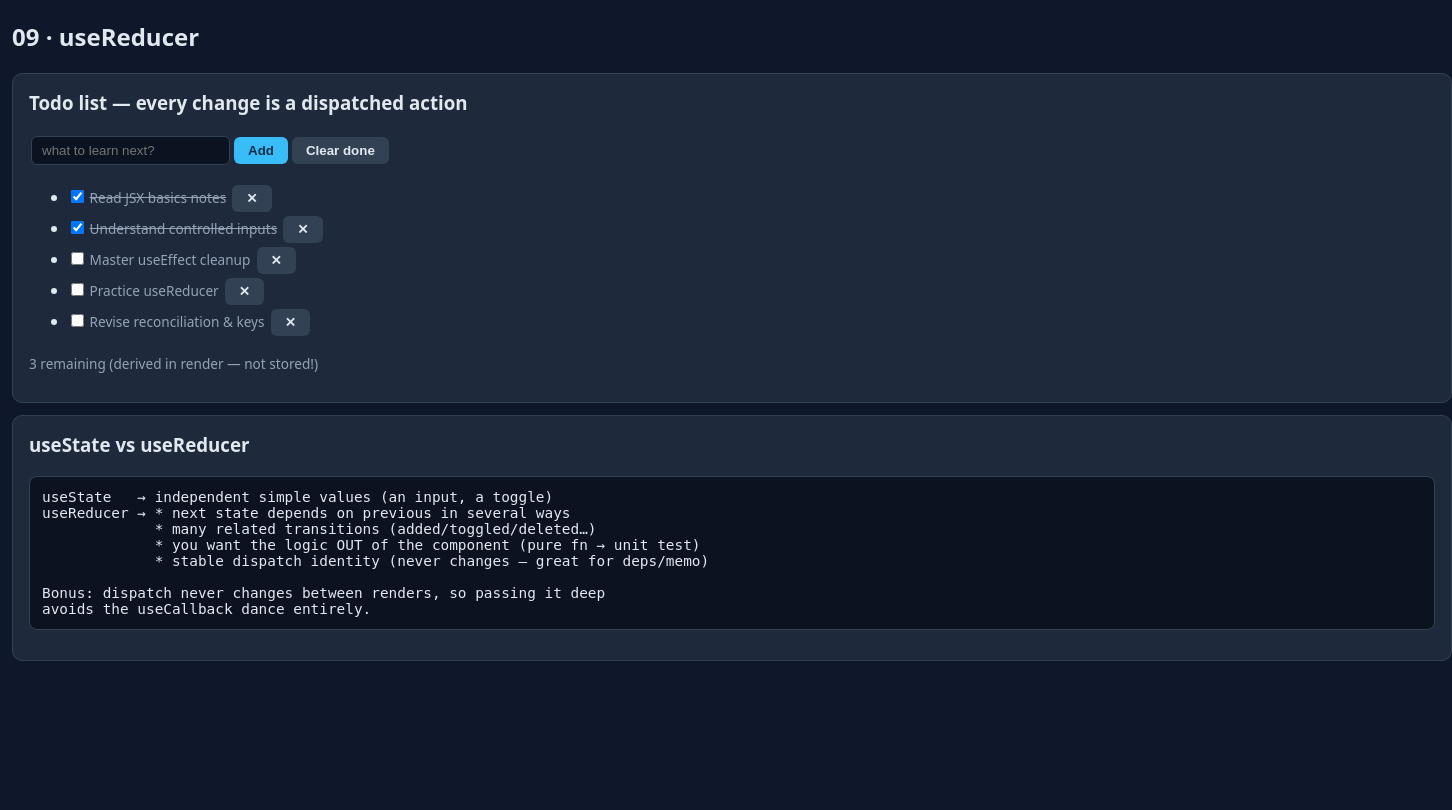
Test: ReducerDemo todo list (concept 09) › adds a todo through the form
In the field with placeholder "what to learn next?": (130, 150) 31,136 -> 230,164, type "Learn testing"
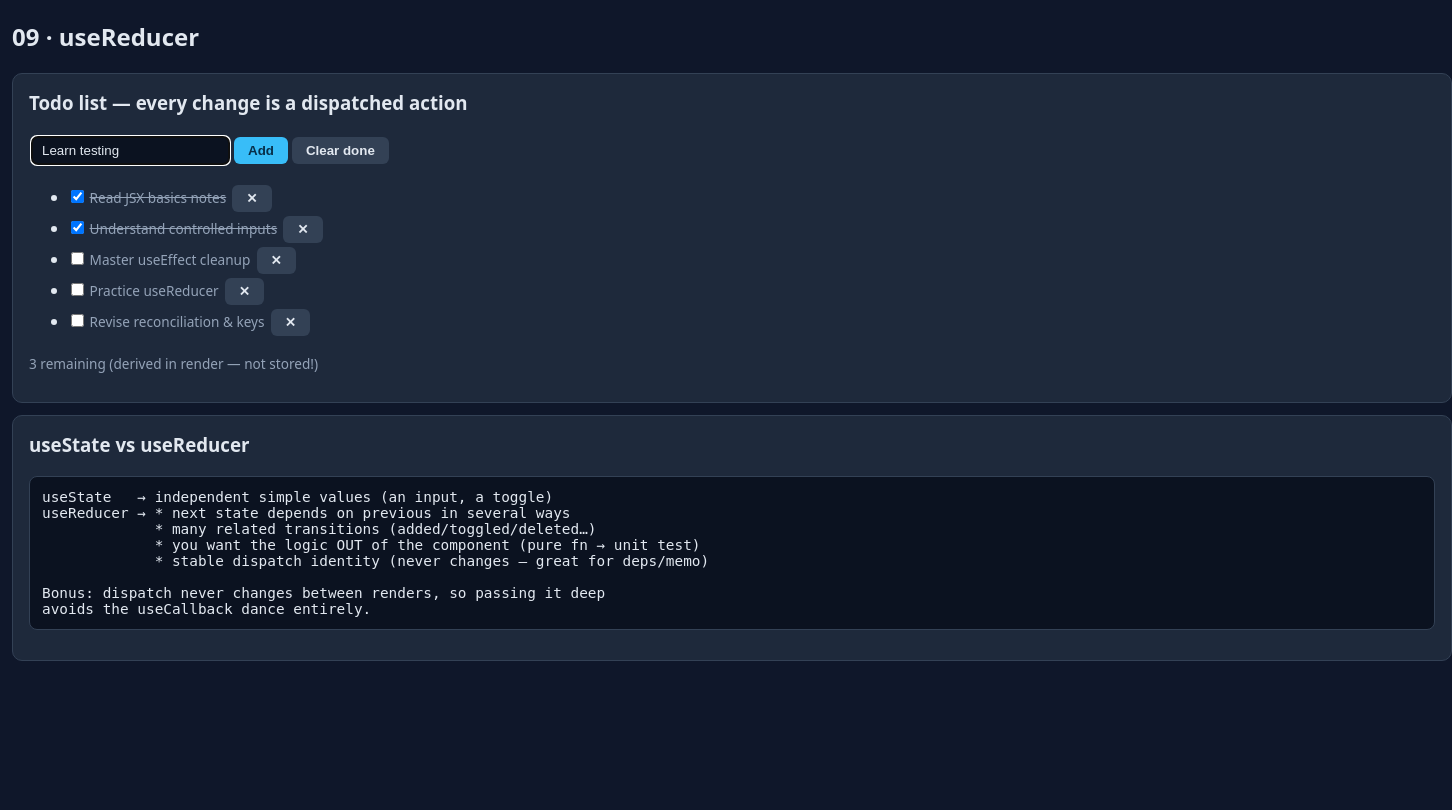
Click the button "Add": (261, 150) 234,136 -> 288,164
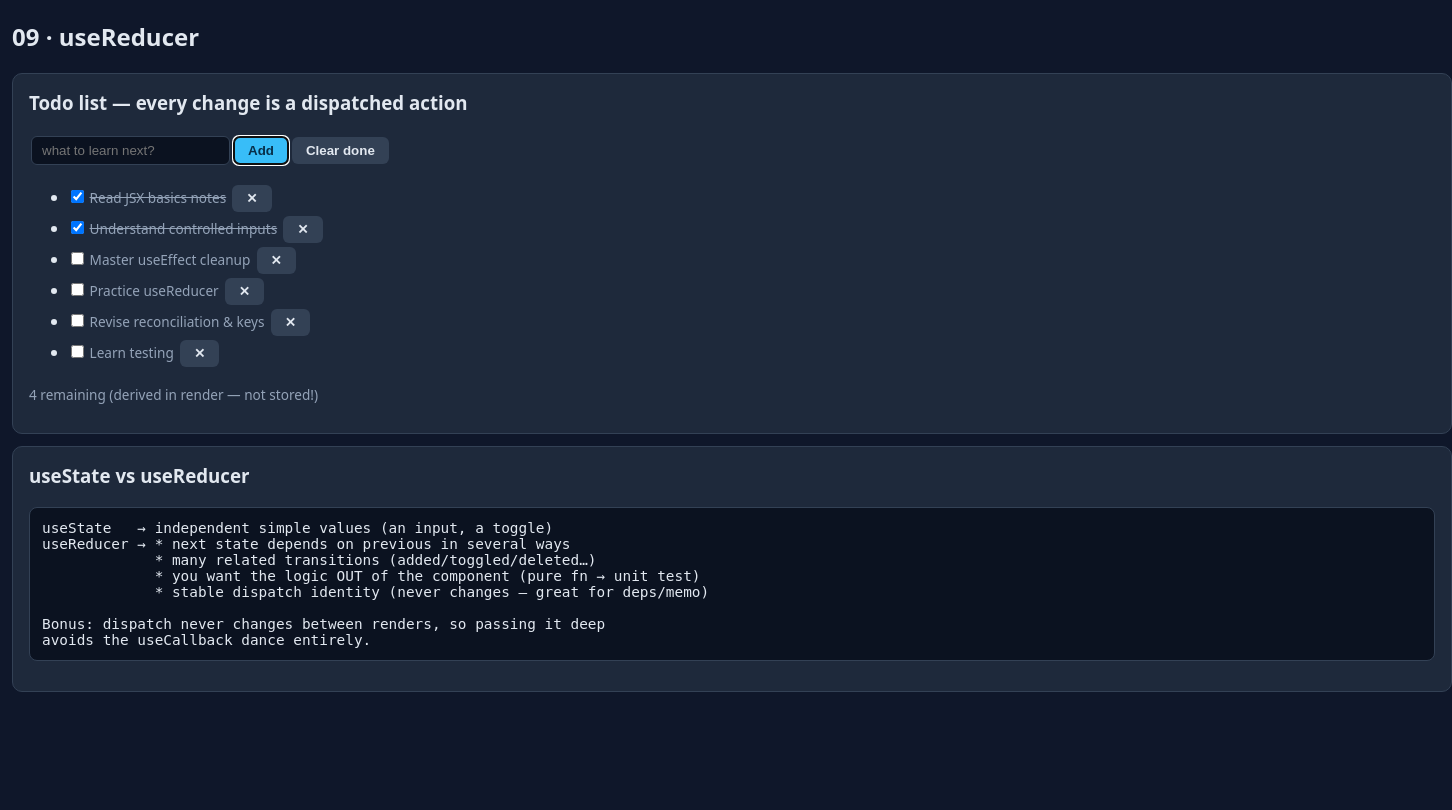
Now the text "Learn testing" is shown, box 90,342 -> 174,362
